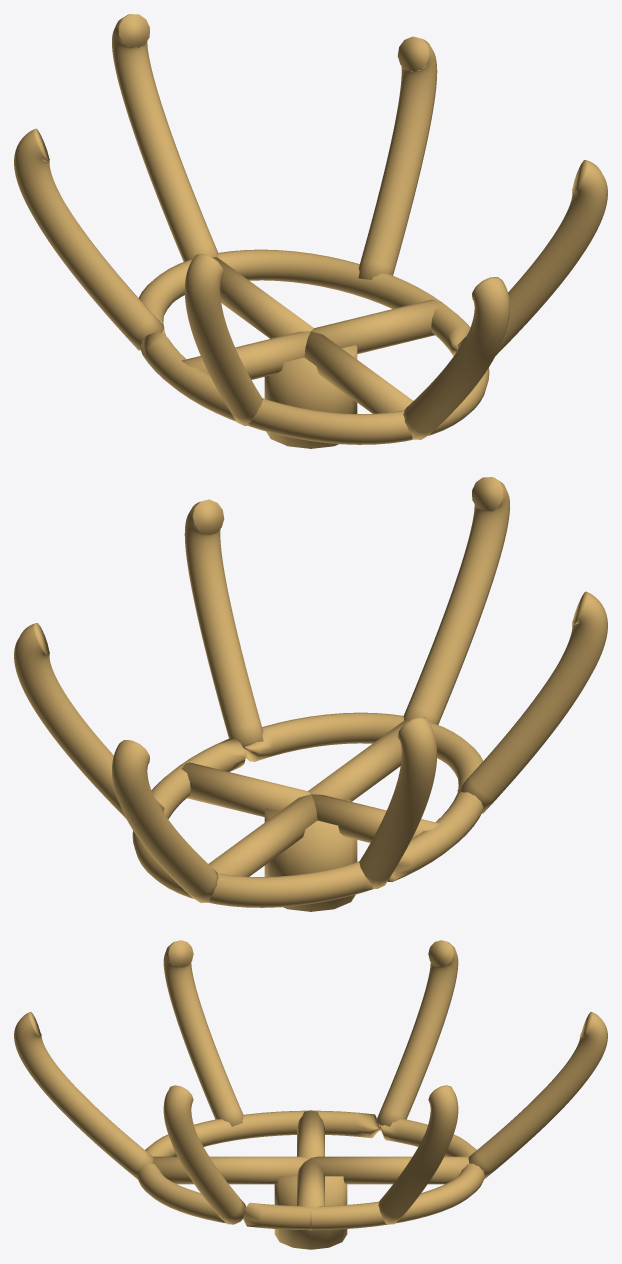
The model's file is stuller-lg-500094542-6-prong.glb.
3 renders of one model, top to bottom at view 1: azimuth 30°, elevation 25°; view 2: azimuth 150°, elevation 25°; view 3: azimuth 270°, elevation 25°, orthographic. The views are drawn at different scales.
Parts seen in each view (by area): view 1: Metal.044, Metal.050, Metal.049, Metal.051, Metal.054, Metal.053, Metal.052, Metal.043, Metal.048, Metal.045, Metal.046, Metal.047; view 2: Metal.044, Metal.053, Metal.054, Metal.052, Metal.049, Metal.050, Metal.051, Metal.043, Metal.046, Metal.045, Metal.048, Metal.047; view 3: Metal.044, Metal.050, Metal.053, Metal.051, Metal.052, Metal.054, Metal.049, Metal.046, Metal.048, Metal.043, Metal.045, Metal.047.
Boxes of the visible parts, left/top/right/bottom form: Metal.044: left=139, top=249, right=489, bottom=444; Metal.050: left=112, top=14, right=218, bottom=261; Metal.049: left=358, top=36, right=437, bottom=279; Metal.051: left=14, top=128, right=164, bottom=350; Metal.054: left=457, top=160, right=607, bottom=355; Metal.053: left=403, top=277, right=509, bottom=439; Metal.052: left=184, top=253, right=262, bottom=425; Metal.043: left=264, top=336, right=357, bottom=448; Metal.048: left=304, top=331, right=412, bottom=413; Metal.045: left=311, top=299, right=440, bottom=353; Metal.046: left=212, top=257, right=313, bottom=338; Metal.047: left=181, top=331, right=310, bottom=379; Metal.044: left=132, top=712, right=483, bottom=907; Metal.053: left=403, top=477, right=509, bottom=724; Metal.054: left=184, top=499, right=263, bottom=747; Metal.052: left=457, top=591, right=607, bottom=813; Metal.049: left=14, top=623, right=164, bottom=818; Metal.050: left=112, top=740, right=218, bottom=902; Metal.051: left=359, top=716, right=437, bottom=888; Metal.043: left=264, top=799, right=357, bottom=911; Metal.046: left=209, top=794, right=317, bottom=876; Metal.045: left=181, top=762, right=310, bottom=816; Metal.048: left=308, top=720, right=409, bottom=801; Metal.047: left=311, top=794, right=440, bottom=842; Metal.044: left=137, top=1110, right=484, bottom=1230; Metal.050: left=468, top=1012, right=607, bottom=1179; Metal.053: left=14, top=1012, right=153, bottom=1179; Metal.051: left=375, top=940, right=458, bottom=1126; Metal.052: left=163, top=940, right=243, bottom=1126; Metal.054: left=163, top=1085, right=245, bottom=1224; Metal.049: left=378, top=1085, right=458, bottom=1224; Metal.046: left=311, top=1156, right=469, bottom=1184; Metal.048: left=152, top=1156, right=310, bottom=1184; Metal.043: left=274, top=1176, right=347, bottom=1249; Metal.045: left=297, top=1158, right=324, bottom=1230; Metal.047: left=297, top=1110, right=324, bottom=1157.
Size of the model in its own units: 6.25 by 4.05 by 9.85.
